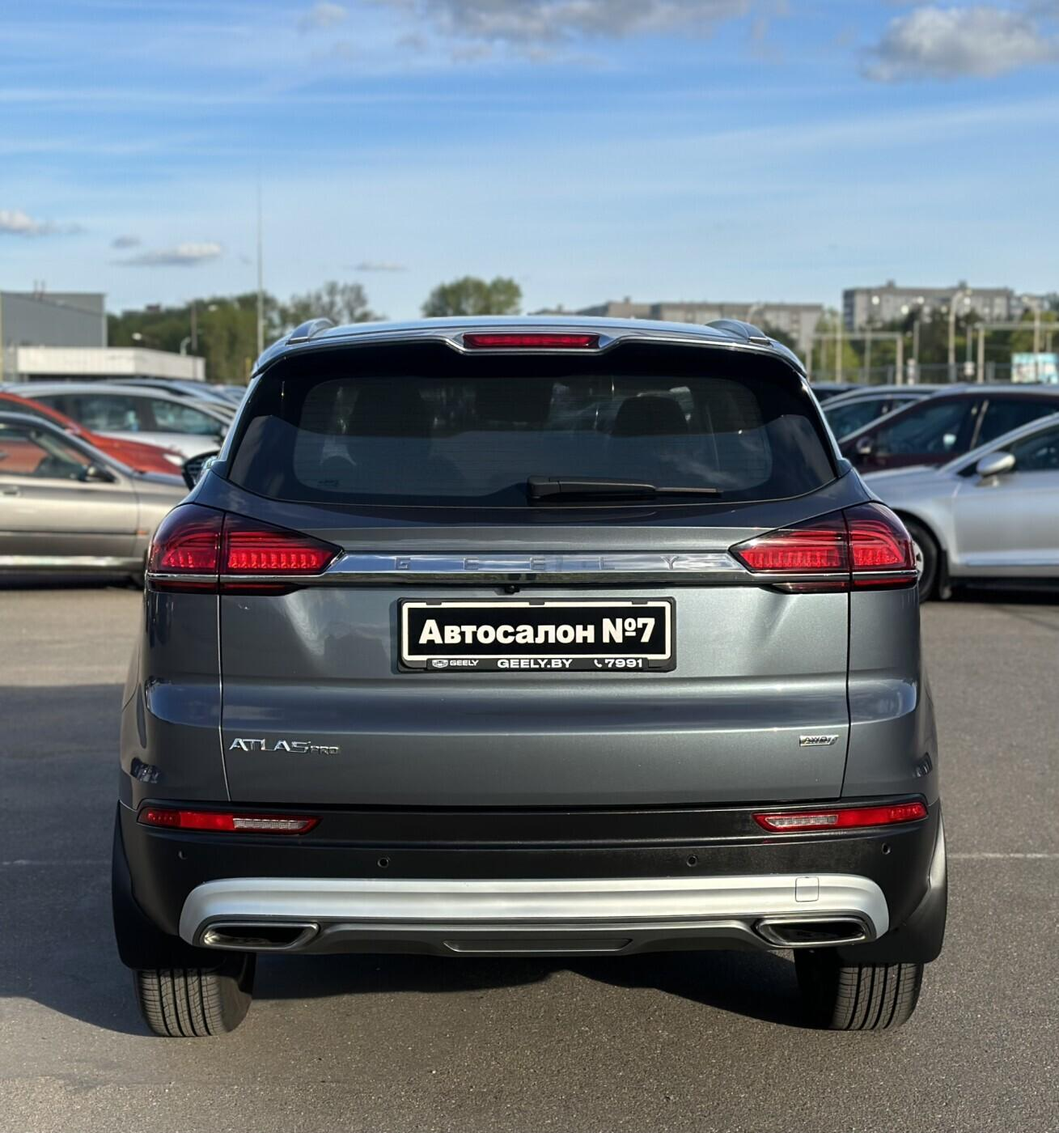Atlas_2016-2023: (116, 309, 958, 1052)
